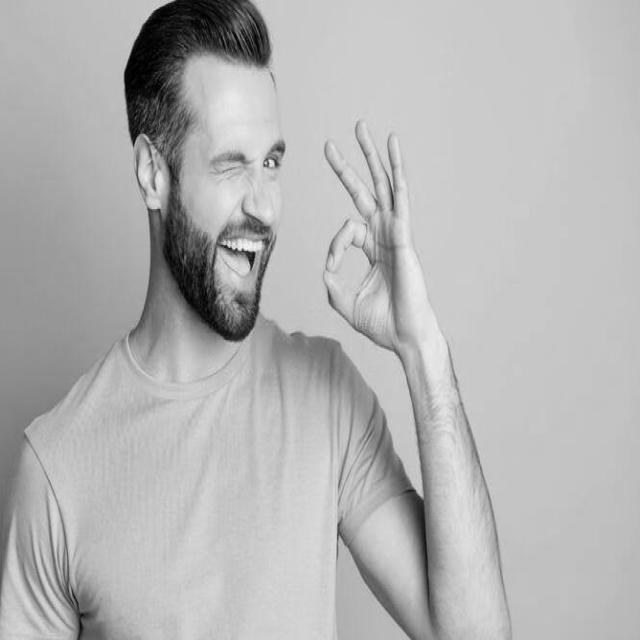perfect: (317, 108, 443, 359)
